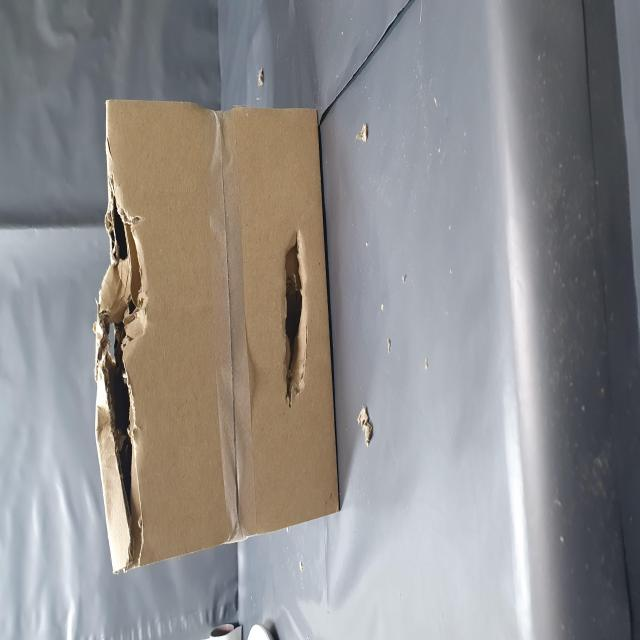damaged: (41, 178, 260, 262), (123, 490, 231, 548)
